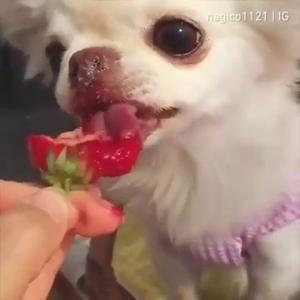nasal_discharge: (77, 49, 111, 87)
